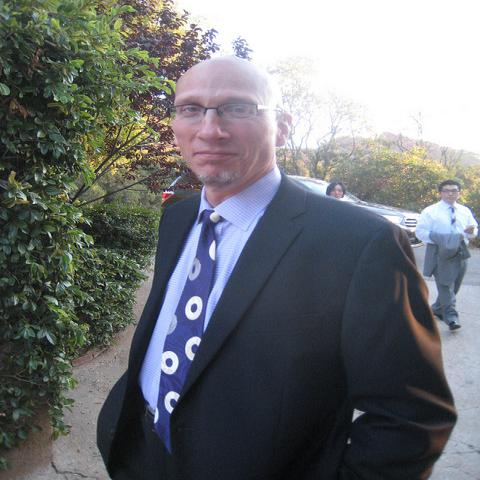car: (286, 174, 426, 248)
